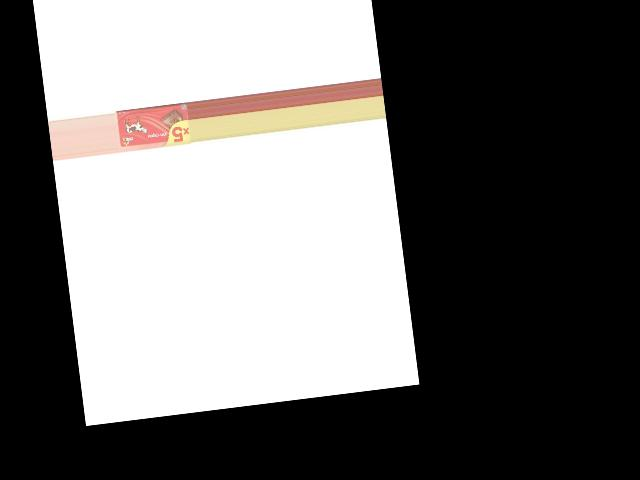chocolate: (113, 102, 191, 154)
